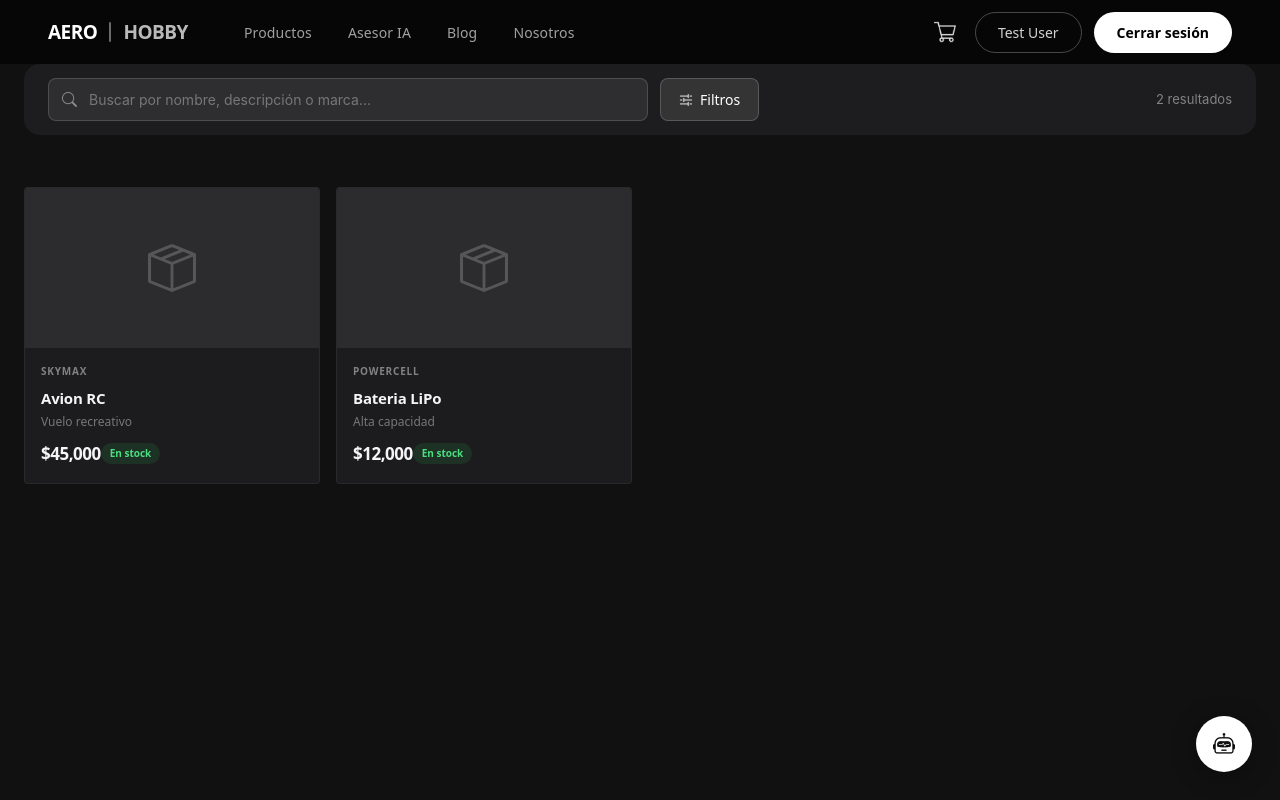
Scenario: Productos › clic en una tarjeta abre el panel de detalle
The image size is (1280, 800).
Step 1. Click the button "SkyMax Avion RC Vuelo recreativo $45,000 En stock" → (172, 336), box left=24, top=187, right=320, bottom=484
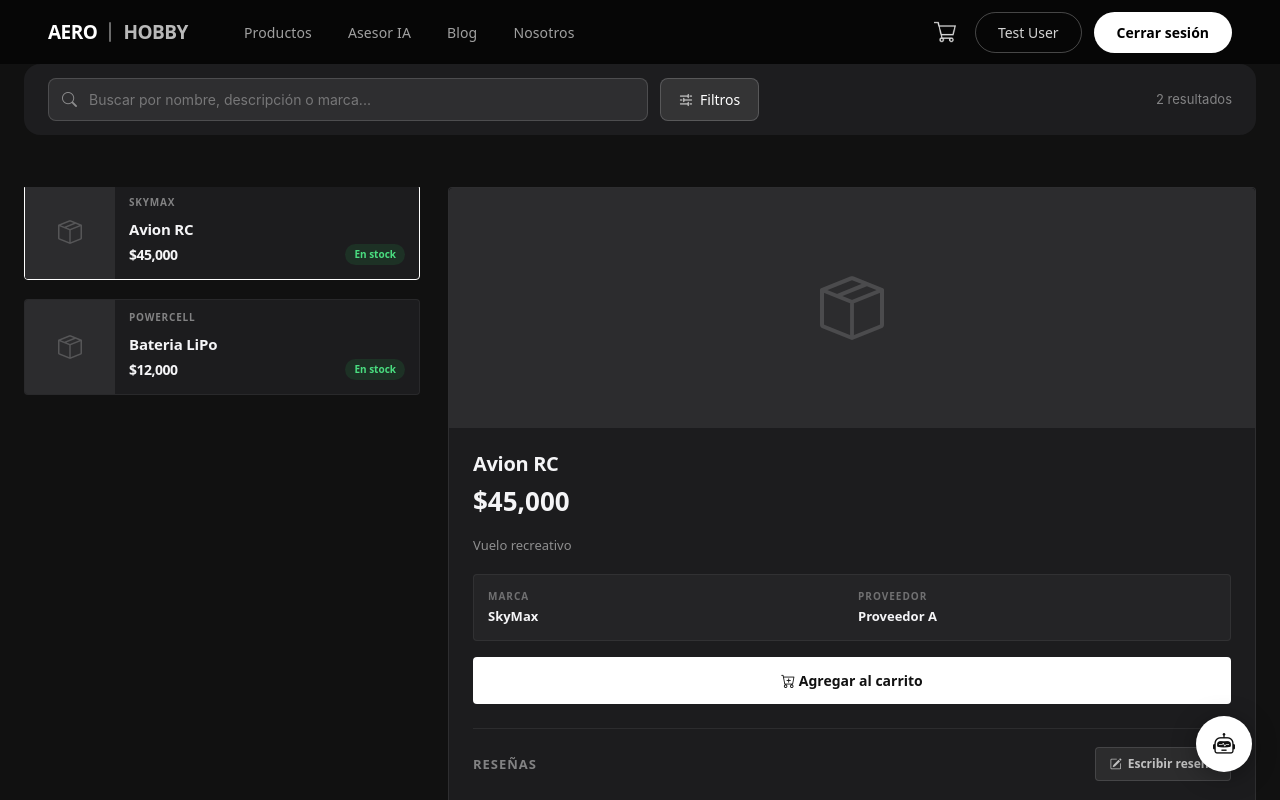
Check: the element that starts with "Avion RC" is shown, box left=449, top=188, right=1255, bottom=799
Check: the 2nd heading "Avion RC" is shown, box left=473, top=450, right=558, bottom=477
